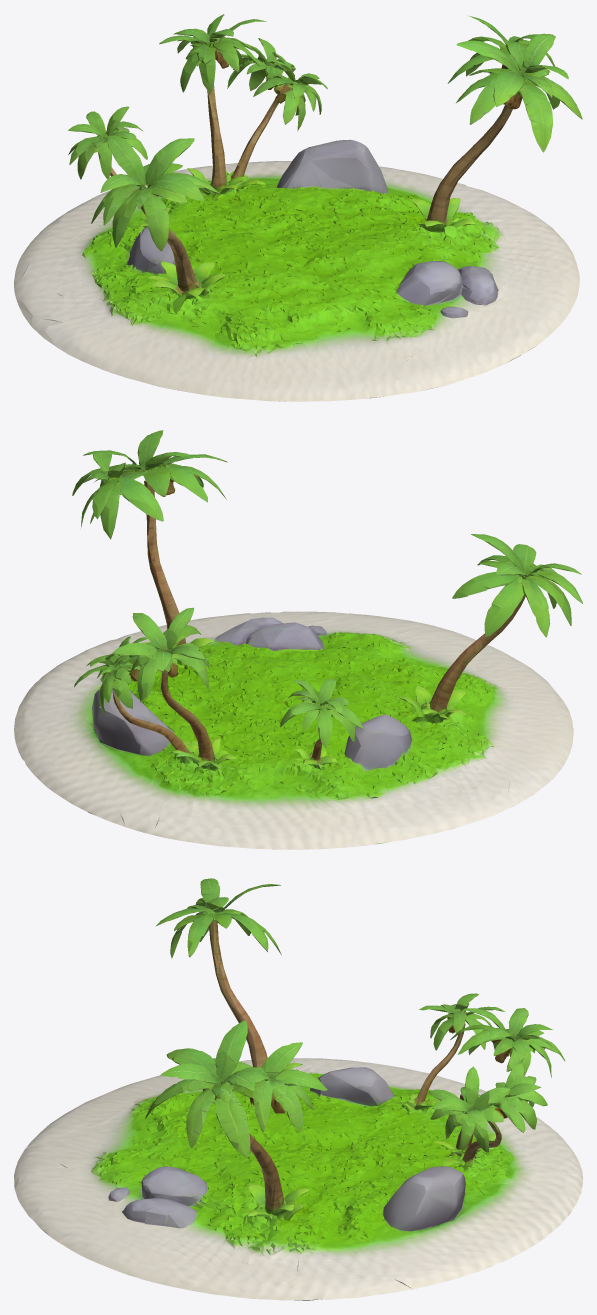
File: mdl-island.glb
3 renders of one model, top to bottom at view 1: azimuth 30°, elevation 25°; view 2: azimuth 150°, elevation 25°; view 3: azimuth 270°, elevation 25°, orthographic.
Bounding box in the file's own units: 1.9 × 0.8351 × 1.9.
1 material, 1 textured.
